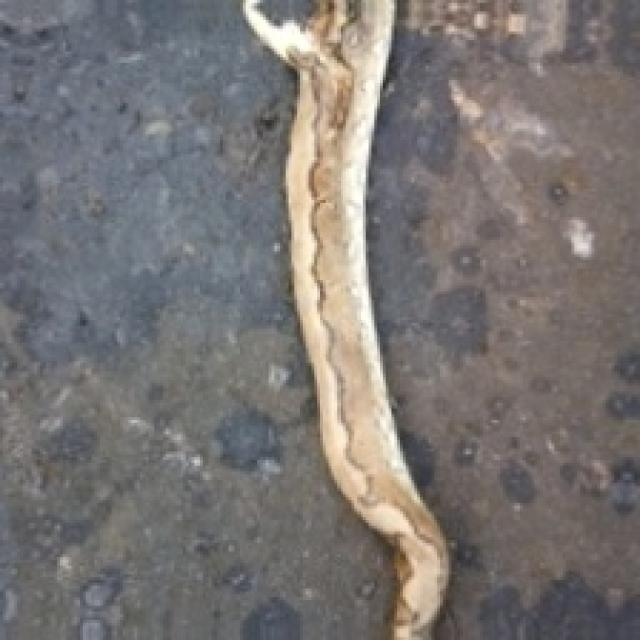reticulated python: (243, 0, 446, 637)
